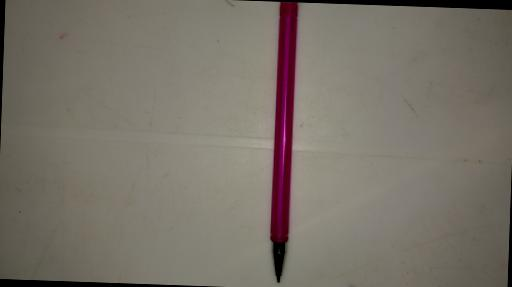pen: (268, 1, 297, 284)
